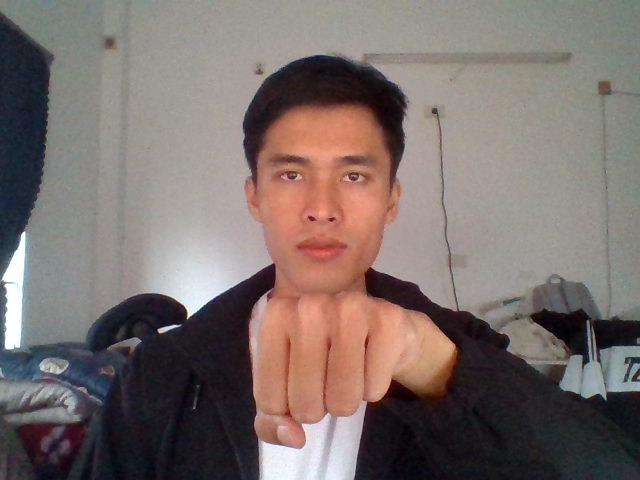Yes: (249, 289, 416, 450)
